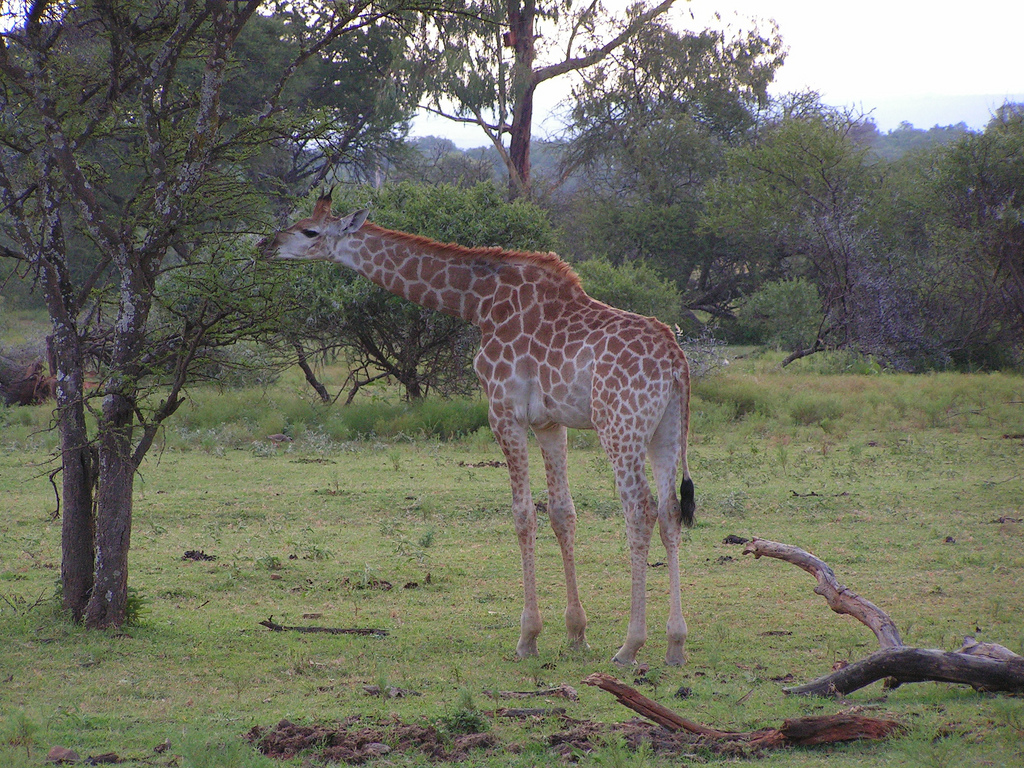giraffe: (258, 181, 720, 700)
